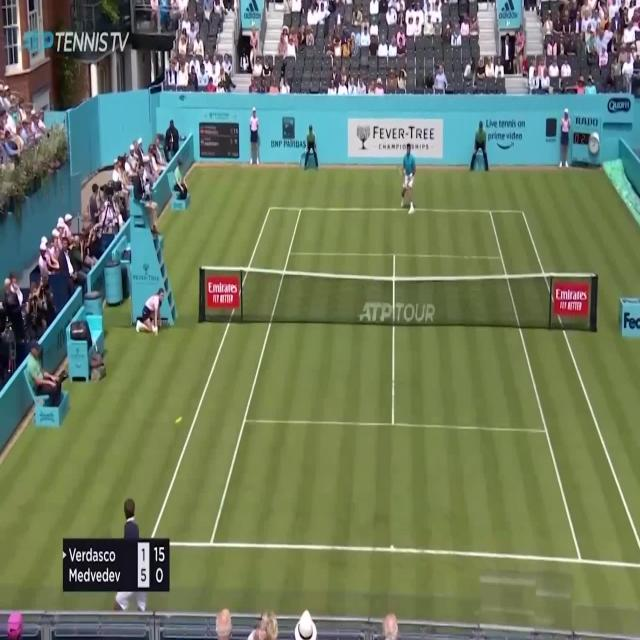bottom-dead-zone: (210, 423, 580, 562)
court: (149, 207, 640, 566)
left-doubles-alley: (150, 208, 301, 546)
left-service-box: (244, 253, 394, 424)
net: (197, 265, 599, 334)
right-doubles-alley: (490, 211, 640, 565)
right-service-box: (393, 255, 545, 430)
top-dead-zone: (289, 209, 501, 257)
